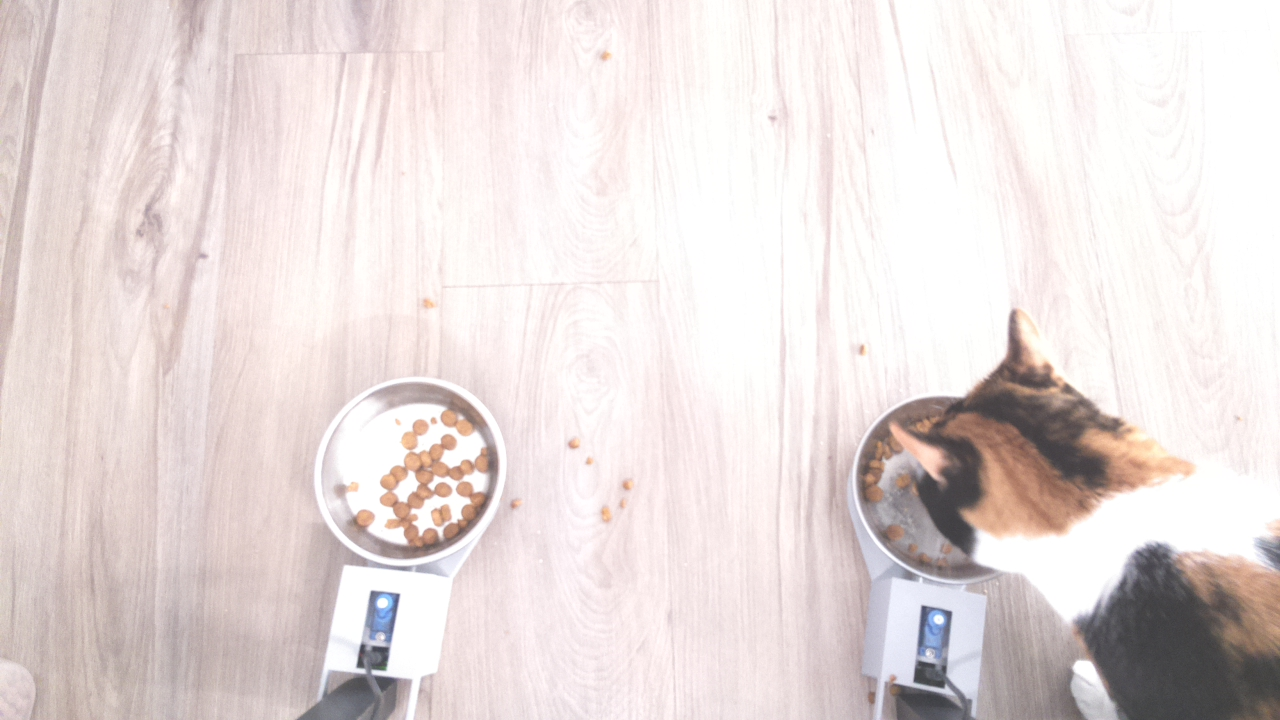bella_eating: (843, 303, 1212, 633)
open_bowl: (312, 373, 507, 570)
